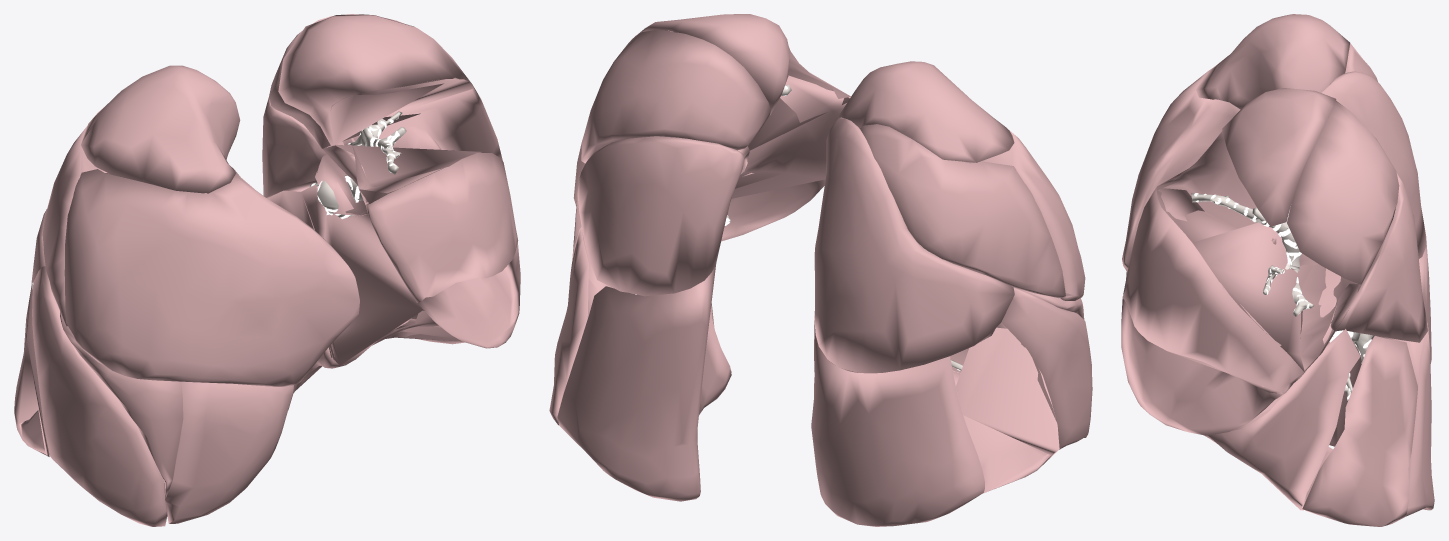
File: 3d-vh-f-lung_lod_20.glb
The picture shows the model from 3 angles, left to right: view 1: azimuth 30°, elevation 25°; view 2: azimuth 150°, elevation 25°; view 3: azimuth 270°, elevation 25°; orthographic projection. The views are drawn at different scales.
Visible parts, largest first — view 1: VH_F_right_anterior_bronchopulmonary_segm, VH_F_right_anterior_basal_bronchopulmonary_segment, VH_F_lingula_superior_bronchopulmonary_segment, VH_F_left_apical_bronchopulmonary_segment, VH_F_right_apical_bronchopulmonary_segment, VH_F_right_medial_bronchopulmonary_segment, VH_F_left_anterior_bronchopulmonary_segment, VH_F_left_medial_basal_bronchopulmonary_segment, VH_F_lingula_inferior_bronchopulmonary_segment, VH_F_right_lateral_bronchopulmonary_segmennt, VH_F_left_superior_bronchopulmonary_segment, VH_F_right_posterior_bronchopulmonary_segment (+6 smaller); view 2: VH_F_right_superior_bronchopulmonary_segment, VH_F_left_posterior_basal_bronchopulmonary_segment, VH_F_right_posterior_basal_bronchopulmonary_segment, VH_F_left_superior_bronchopulmonary_segment, VH_F_right_posterior_bronchopulmonary_segment, VH_F_left_posterior_bronchopulmonary_segment, VH_F_right_lateral_basal_bronchopulmonary_segment, VH_F_right_apical_bronchopulmonary_segment, VH_F_right_anterior_basal_bronchopulmonary_segment, VH_F_lingula_superior_bronchopulmonary_segment, VH_F_left_apical_bronchopulmonary_segment, VH_F_right_anterior_bronchopulmonary_segm (+4 smaller); view 3: VH_F_lingula_superior_bronchopulmonary_segment, VH_F_left_anterior_bronchopulmonary_segment, VH_F_left_lateral_basal_bronchopulmonary_segment, VH_F_left_posterior_bronchopulmonary_segment, VH_F_left_anterior_basal_bronchopulmonary_segment, VH_F_lingula_inferior_bronchopulmonary_segment, VH_F_left_apical_bronchopulmonary_segment, VH_F_right_apical_bronchopulmonary_segment, VH_F_left_superior_bronchopulmonary_segment, VH_F_right_anterior_bronchopulmonary_segm, VH_F_right_superior_bronchopulmonary_segment, VH_F_left_posterior_basal_bronchopulmonary_segment (+5 smaller).
Boxes of the visible parts, x1,y1,x2,y2 form: VH_F_right_anterior_bronchopulmonary_segm: (64, 168, 359, 386); VH_F_right_anterior_basal_bronchopulmonary_segment: (32, 266, 167, 526); VH_F_lingula_superior_bronchopulmonary_segment: (365, 153, 518, 302); VH_F_left_apical_bronchopulmonary_segment: (278, 14, 470, 145); VH_F_right_apical_bronchopulmonary_segment: (81, 65, 240, 193); VH_F_right_medial_bronchopulmonary_segment: (164, 381, 294, 523); VH_F_left_anterior_bronchopulmonary_segment: (330, 79, 502, 204); VH_F_left_medial_basal_bronchopulmonary_segment: (325, 213, 424, 365); VH_F_lingula_inferior_bronchopulmonary_segment: (418, 242, 520, 348); VH_F_right_lateral_bronchopulmonary_segmennt: (60, 311, 183, 498); VH_F_left_superior_bronchopulmonary_segment: (262, 97, 441, 197); VH_F_right_posterior_bronchopulmonary_segment: (42, 107, 107, 326); VH_F_right_superior_bronchopulmonary_segment: (814, 117, 1014, 373); VH_F_left_posterior_basal_bronchopulmonary_segment: (557, 265, 731, 501); VH_F_right_posterior_basal_bronchopulmonary_segment: (811, 320, 984, 526); VH_F_left_superior_bronchopulmonary_segment: (577, 136, 744, 296); VH_F_right_posterior_bronchopulmonary_segment: (860, 124, 1065, 298); VH_F_left_posterior_bronchopulmonary_segment: (581, 30, 770, 163); VH_F_right_lateral_basal_bronchopulmonary_segment: (908, 327, 1059, 493); VH_F_right_apical_bronchopulmonary_segment: (838, 61, 1014, 162); VH_F_right_anterior_basal_bronchopulmonary_segment: (950, 287, 1092, 449); VH_F_lingula_superior_bronchopulmonary_segment: (731, 75, 850, 198); VH_F_left_apical_bronchopulmonary_segment: (631, 14, 789, 115); VH_F_right_anterior_bronchopulmonary_segm: (964, 130, 1085, 300); VH_F_lingula_superior_bronchopulmonary_segment: (1123, 187, 1304, 393); VH_F_left_anterior_bronchopulmonary_segment: (1156, 131, 1362, 371); VH_F_left_lateral_basal_bronchopulmonary_segment: (1302, 336, 1417, 526); VH_F_left_posterior_bronchopulmonary_segment: (1287, 100, 1399, 284); VH_F_left_anterior_basal_bronchopulmonary_segment: (1204, 329, 1360, 510); VH_F_lingula_inferior_bronchopulmonary_segment: (1121, 296, 1284, 435); VH_F_left_apical_bronchopulmonary_segment: (1222, 88, 1336, 226); VH_F_right_apical_bronchopulmonary_segment: (1196, 14, 1349, 109); VH_F_left_superior_bronchopulmonary_segment: (1331, 173, 1427, 342); VH_F_right_anterior_bronchopulmonary_segm: (1122, 68, 1240, 272); VH_F_right_superior_bronchopulmonary_segment: (1321, 71, 1426, 258); VH_F_left_posterior_basal_bronchopulmonary_segment: (1329, 323, 1434, 516).
Size of the model in its own units: 0.2512 by 0.2232 by 0.1526.
